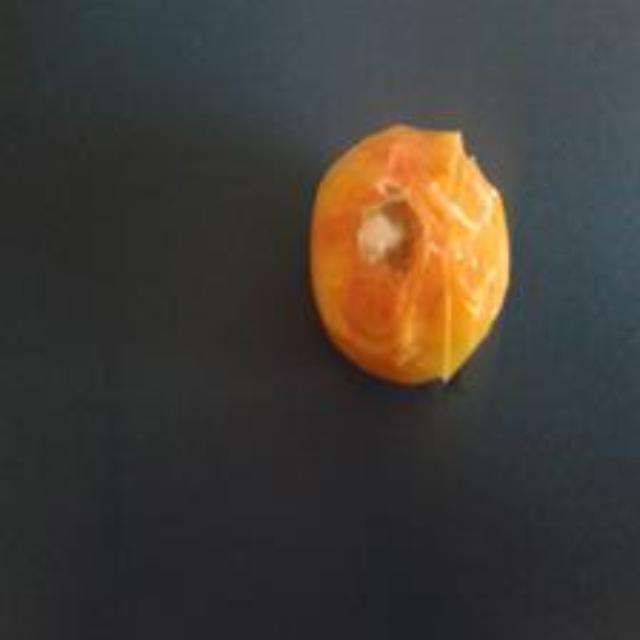defect: (302, 119, 516, 394)
